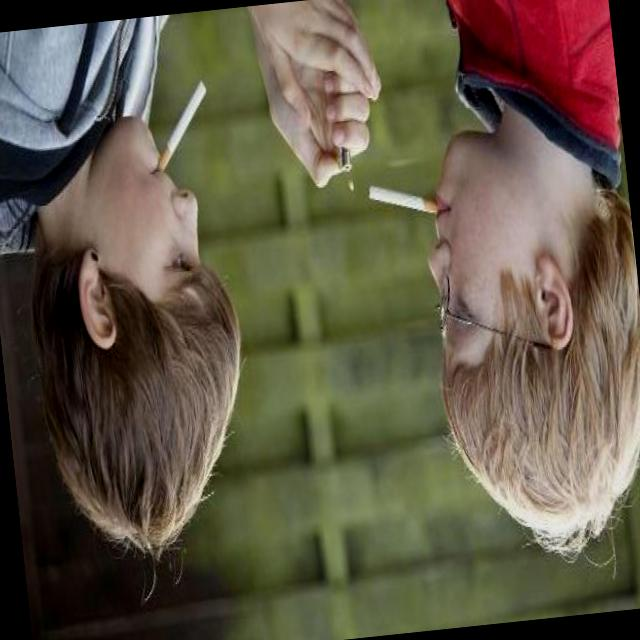smoke: (146, 66, 222, 184), (340, 168, 458, 230)
